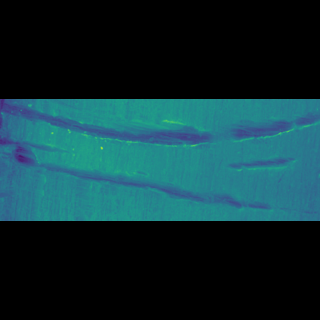Loch: (1, 148, 318, 183), (1, 137, 320, 156), (221, 156, 298, 165)
